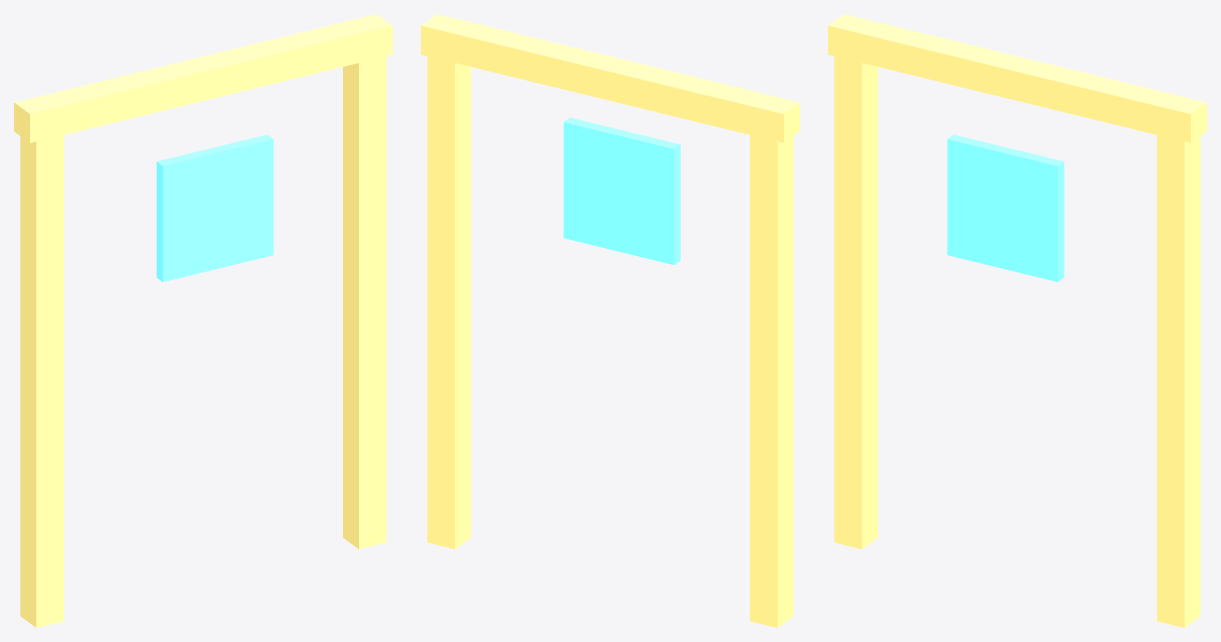
File: jeffrey_arch_01.glb
The picture shows the model from 3 angles, left to right: view 1: azimuth 30°, elevation 25°; view 2: azimuth 150°, elevation 25°; view 3: azimuth 330°, elevation 25°; orthographic projection.
Visible parts, largest first — view 1: ArchL, ArchR, ArchTop, Disc; view 2: ArchL, ArchR, ArchTop, Disc; view 3: ArchR, ArchL, ArchTop, Disc.
Part boxes in pixels (box(x1,y1,x2,y2)): ArchL: box(20, 120, 63, 627); ArchR: box(343, 56, 386, 549); ArchTop: box(14, 14, 392, 142); Disc: box(156, 134, 273, 281); ArchL: box(750, 120, 793, 627); ArchR: box(427, 42, 470, 549); ArchTop: box(421, 14, 799, 142); Disc: box(563, 117, 680, 264); ArchR: box(1157, 120, 1200, 627); ArchL: box(834, 42, 877, 549); ArchTop: box(828, 14, 1206, 142); Disc: box(947, 134, 1064, 281).
Size of the model in its own units: 7.2 by 9.78 by 0.785.
